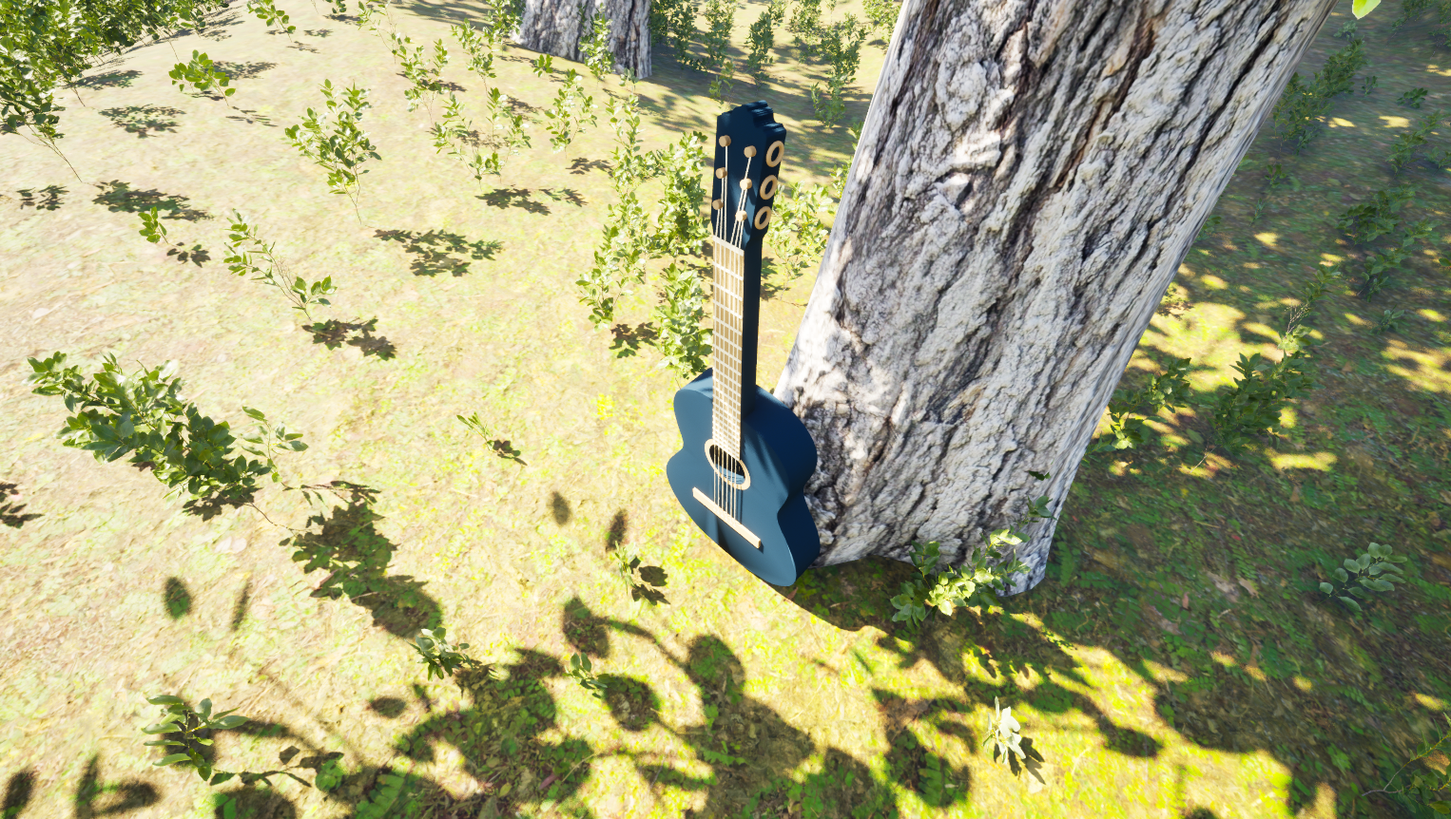Guitar: (612, 48, 917, 609)
